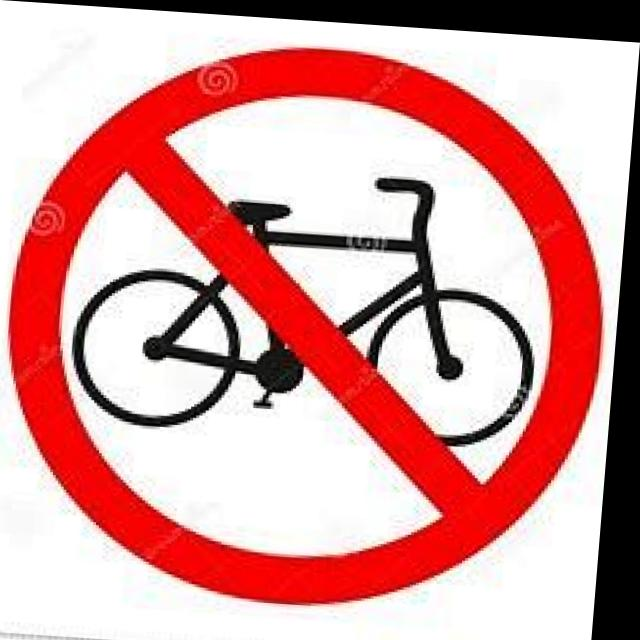CYCLE_PROHIBITED: (0, 29, 625, 618)
